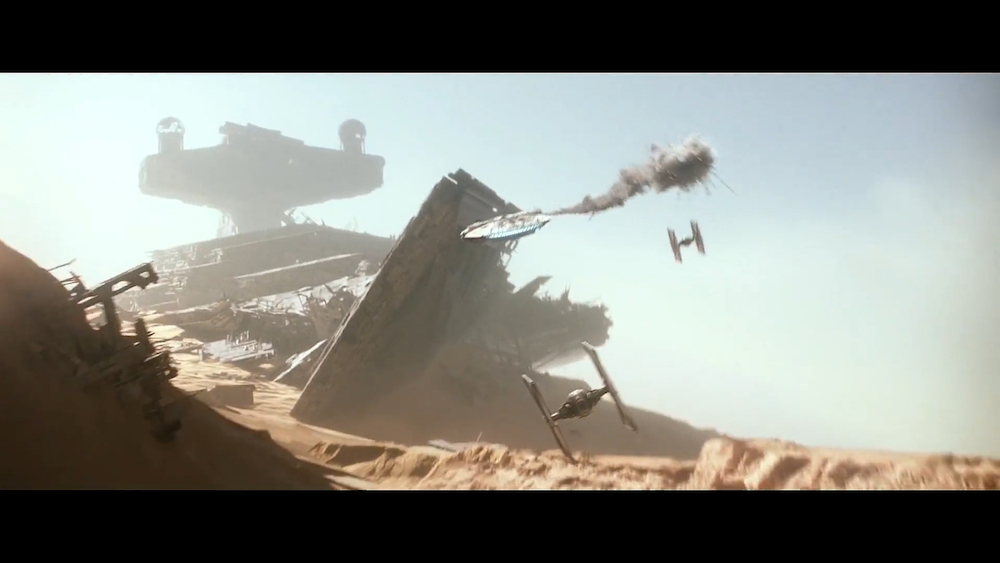Millennium Falcon: (460, 208, 551, 244)
Tie Fighter: (521, 341, 641, 466), (667, 220, 706, 265)
